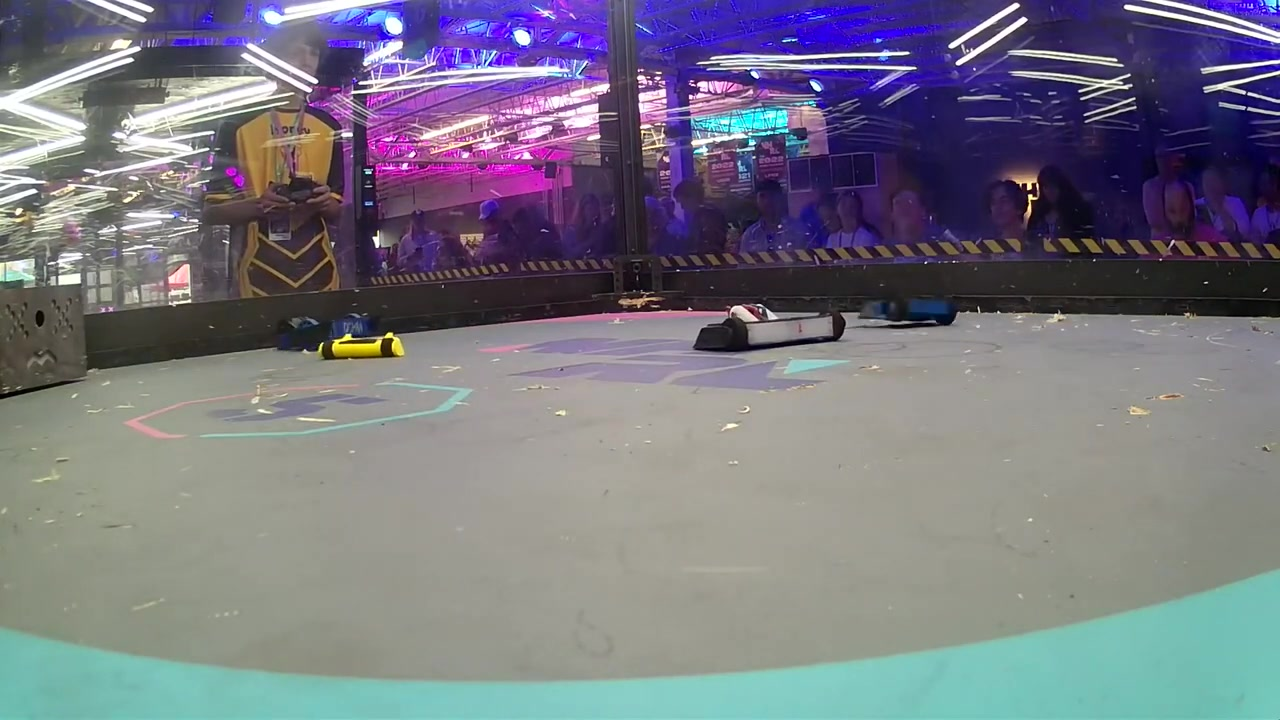combatbot: (694, 301, 847, 350), (278, 313, 375, 349)
housebot: (0, 283, 88, 399)
minibot: (858, 293, 961, 329), (319, 334, 406, 359)
